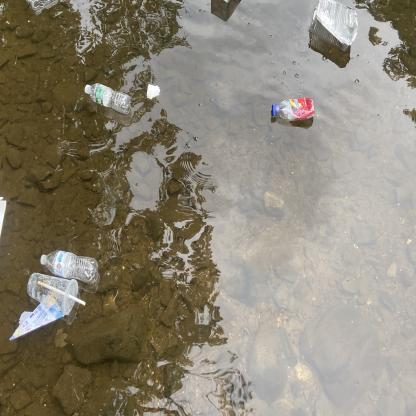trash: (7, 294, 67, 344), (24, 270, 87, 317), (306, 0, 359, 54), (37, 247, 100, 285), (80, 80, 134, 116), (270, 95, 316, 124), (0, 192, 10, 242), (145, 82, 162, 102), (220, 0, 234, 6)
